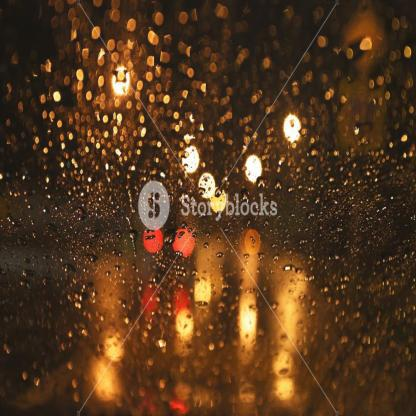other: (171, 132, 233, 220), (80, 27, 140, 104), (239, 146, 265, 188), (280, 111, 306, 143)
